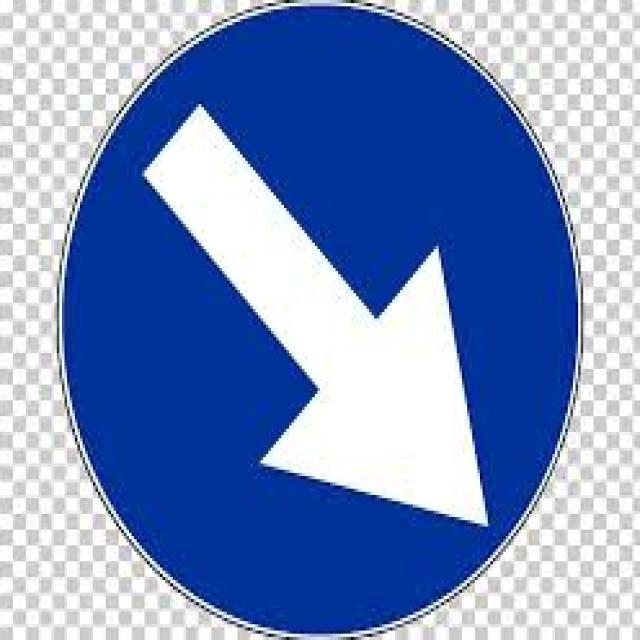compulsary keep right: (55, 8, 591, 628)
